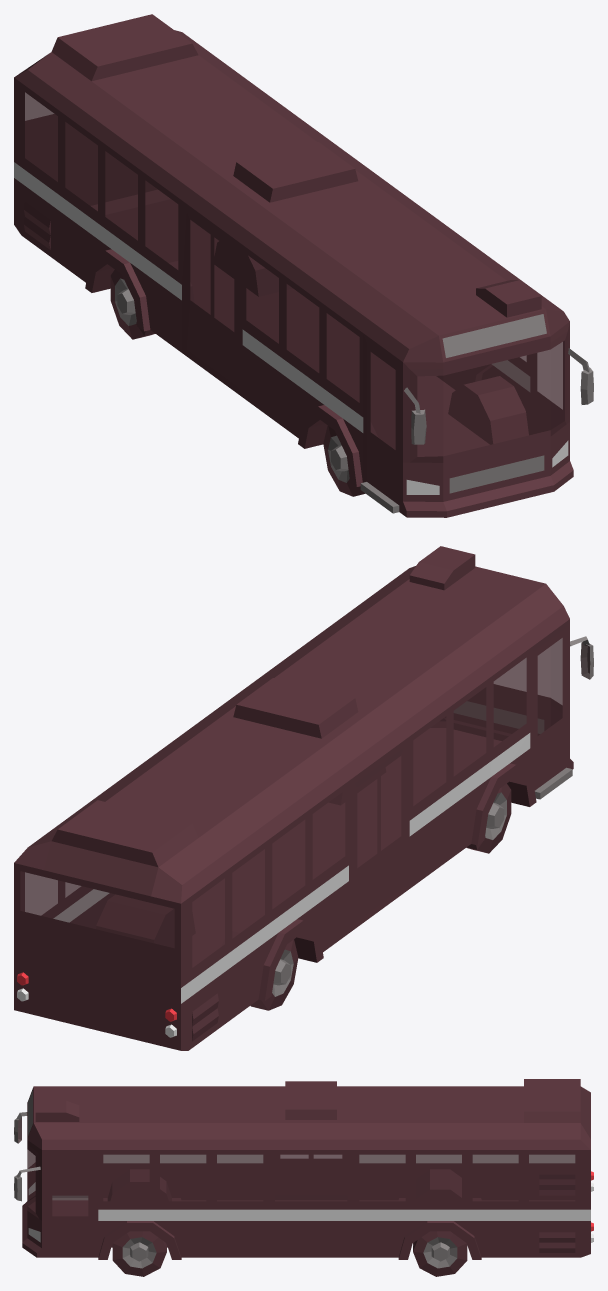
File: bus-passenger.fbx
3 views of the same model, one above another, from view 1: azimuth 30°, elevation 25°; view 2: azimuth 150°, elevation 25°; view 3: azimuth 270°, elevation 25° (orthographic). The views are drawn at different scales.
Parts seen in each view (by area): view 1: bus-passenger-base, bus-passenger-wheel_BR, bus-passenger-wheel_FR; view 2: bus-passenger-base, bus-passenger-wheel_FR, bus-passenger-wheel_BR; view 3: bus-passenger-base, bus-passenger-wheel_FL, bus-passenger-wheel_BL.
Boxes of the visible parts, x1,y1,x2,y2 form: bus-passenger-base: (14,14,593,517); bus-passenger-wheel_BR: (110,270,155,339); bus-passenger-wheel_FR: (323,425,365,496); bus-passenger-base: (14,546,593,1050); bus-passenger-wheel_FR: (466,783,511,853); bus-passenger-wheel_BR: (250,939,298,1010); bus-passenger-base: (14,1079,593,1259); bus-passenger-wheel_FL: (112,1231,166,1276); bus-passenger-wheel_BL: (413,1231,467,1276).
Bounding box in the file's own units: 2.85 × 3.34 × 11.28.
